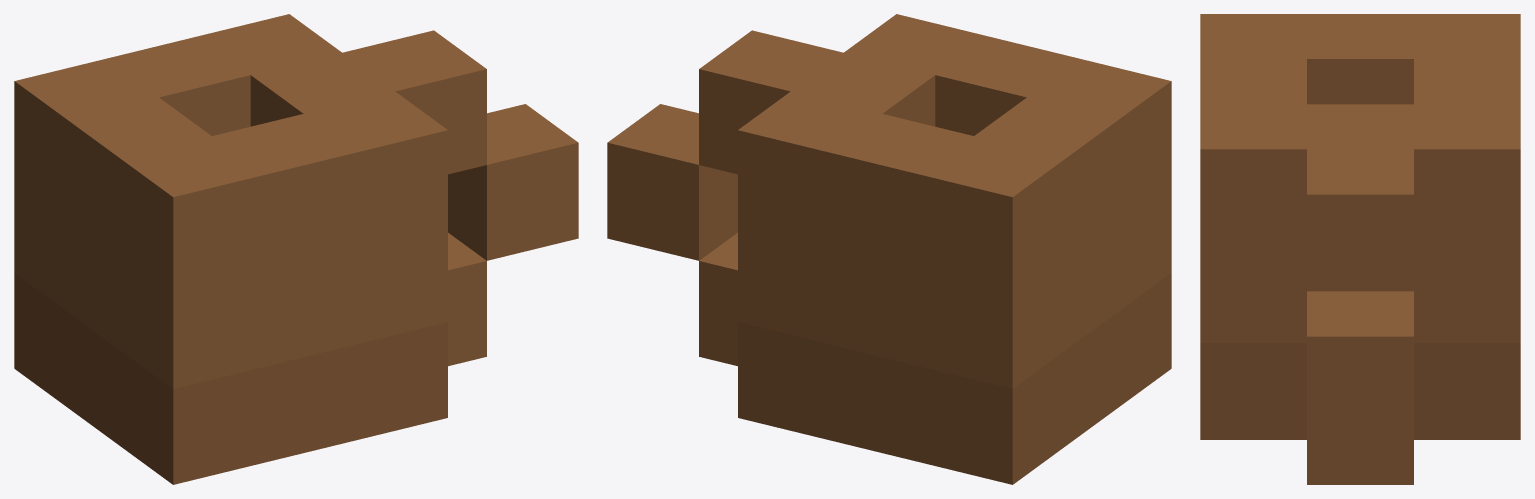
File: tavern-60-beermug.obj
The picture shows the model from 3 angles, left to right: view 1: azimuth 30°, elevation 25°; view 2: azimuth 150°, elevation 25°; view 3: azimuth 270°, elevation 25°; orthographic projection.
Visible parts, largest first — view 1: beermug; view 2: beermug; view 3: beermug.
Part boxes in pixels (bbox=[...]): beermug: bbox=[14, 14, 578, 484]; beermug: bbox=[607, 14, 1171, 484]; beermug: bbox=[1200, 14, 1520, 484].
Size of the model in its own units: 0.5 by 0.3 by 0.3.
1 material, 1 textured.
